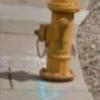a fire hydrant: (36, 0, 81, 81)
